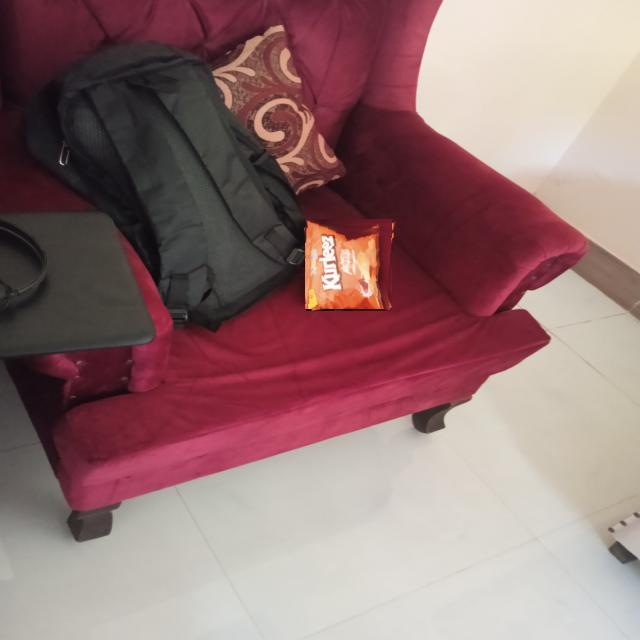Plastic: (305, 220, 394, 309)
